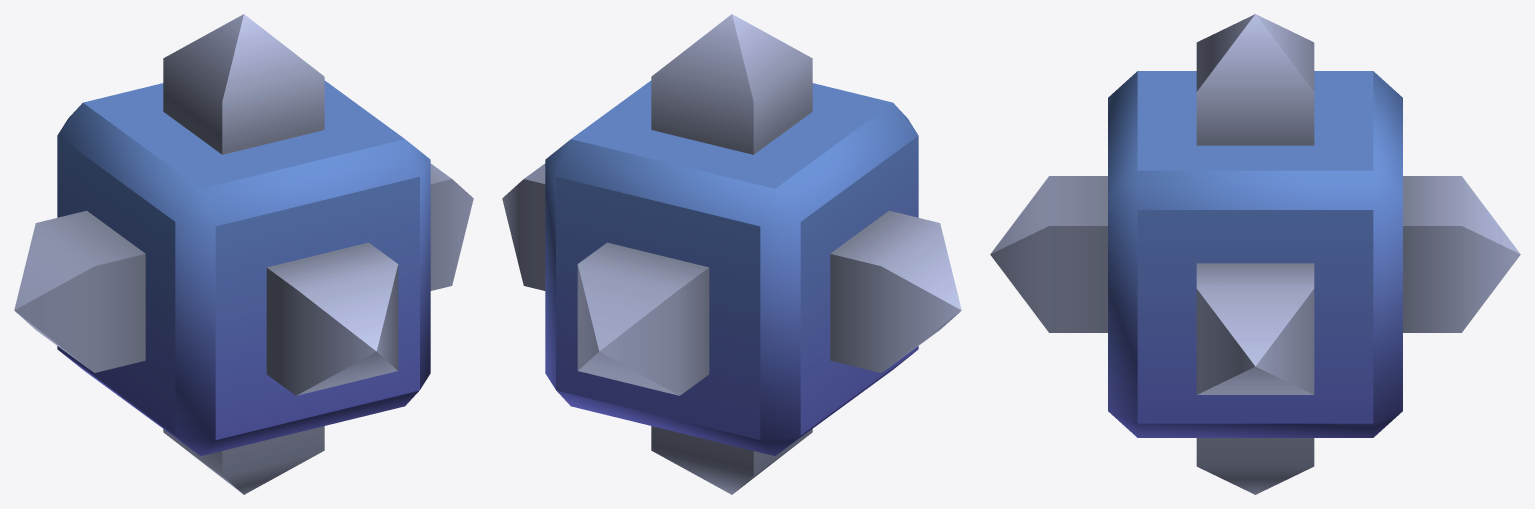
File: kenney-platformer-spike-block.glb
The picture shows the model from 3 angles, left to right: view 1: azimuth 30°, elevation 25°; view 2: azimuth 150°, elevation 25°; view 3: azimuth 270°, elevation 25°; orthographic projection.
Parts seen in each view (by area): view 1: spike-block; view 2: spike-block; view 3: spike-block.
Part boxes in pixels (left/top/right/bottom): spike-block: left=14, top=14, right=473, bottom=494; spike-block: left=502, top=14, right=961, bottom=494; spike-block: left=990, top=14, right=1520, bottom=494.
Size of the model in its own units: 0.9 by 0.9 by 0.9.
Materials: 1 (1 with a texture image).
